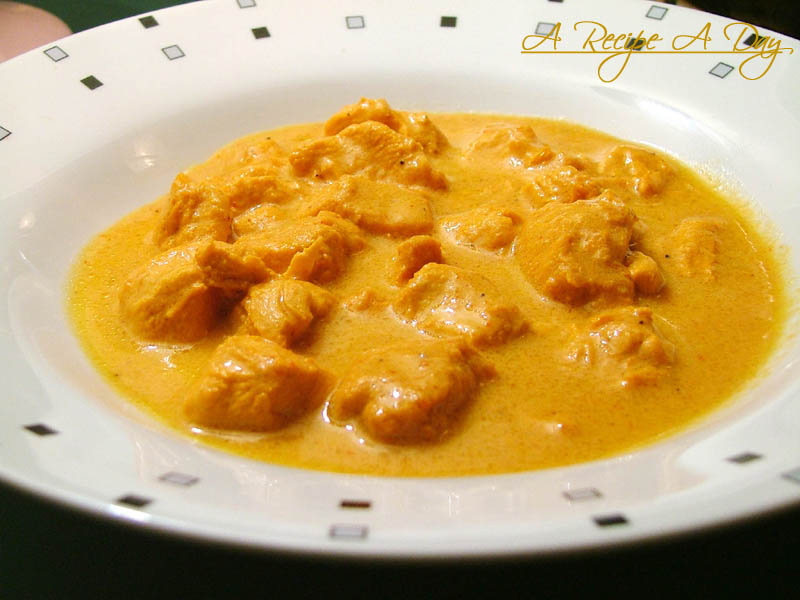butter_chicken: (144, 113, 740, 458)
